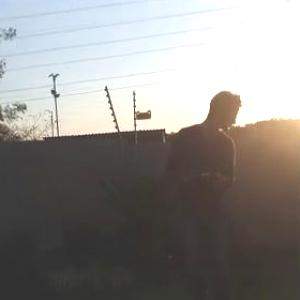follow: (160, 86, 246, 299)
